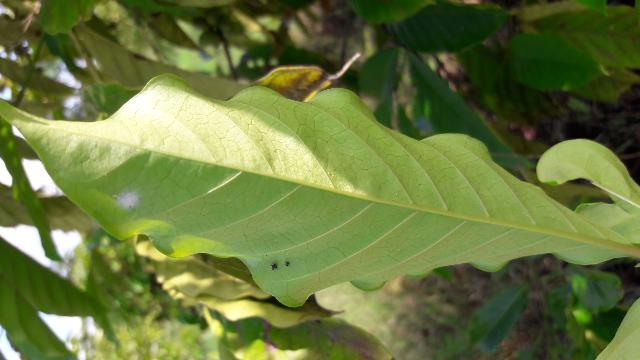healthy: (1, 75, 627, 307)
